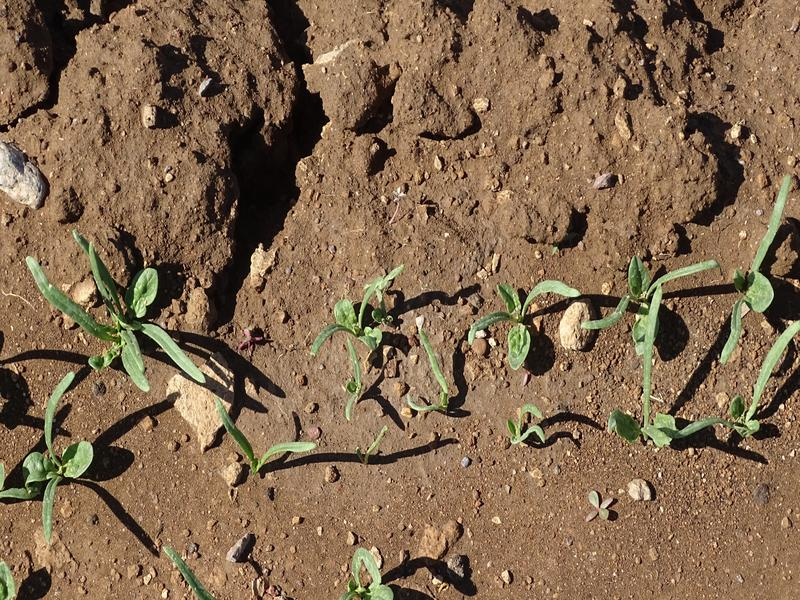Espinaca: (326, 257, 784, 445), (4, 230, 208, 542), (214, 401, 314, 478), (345, 548, 390, 600)
